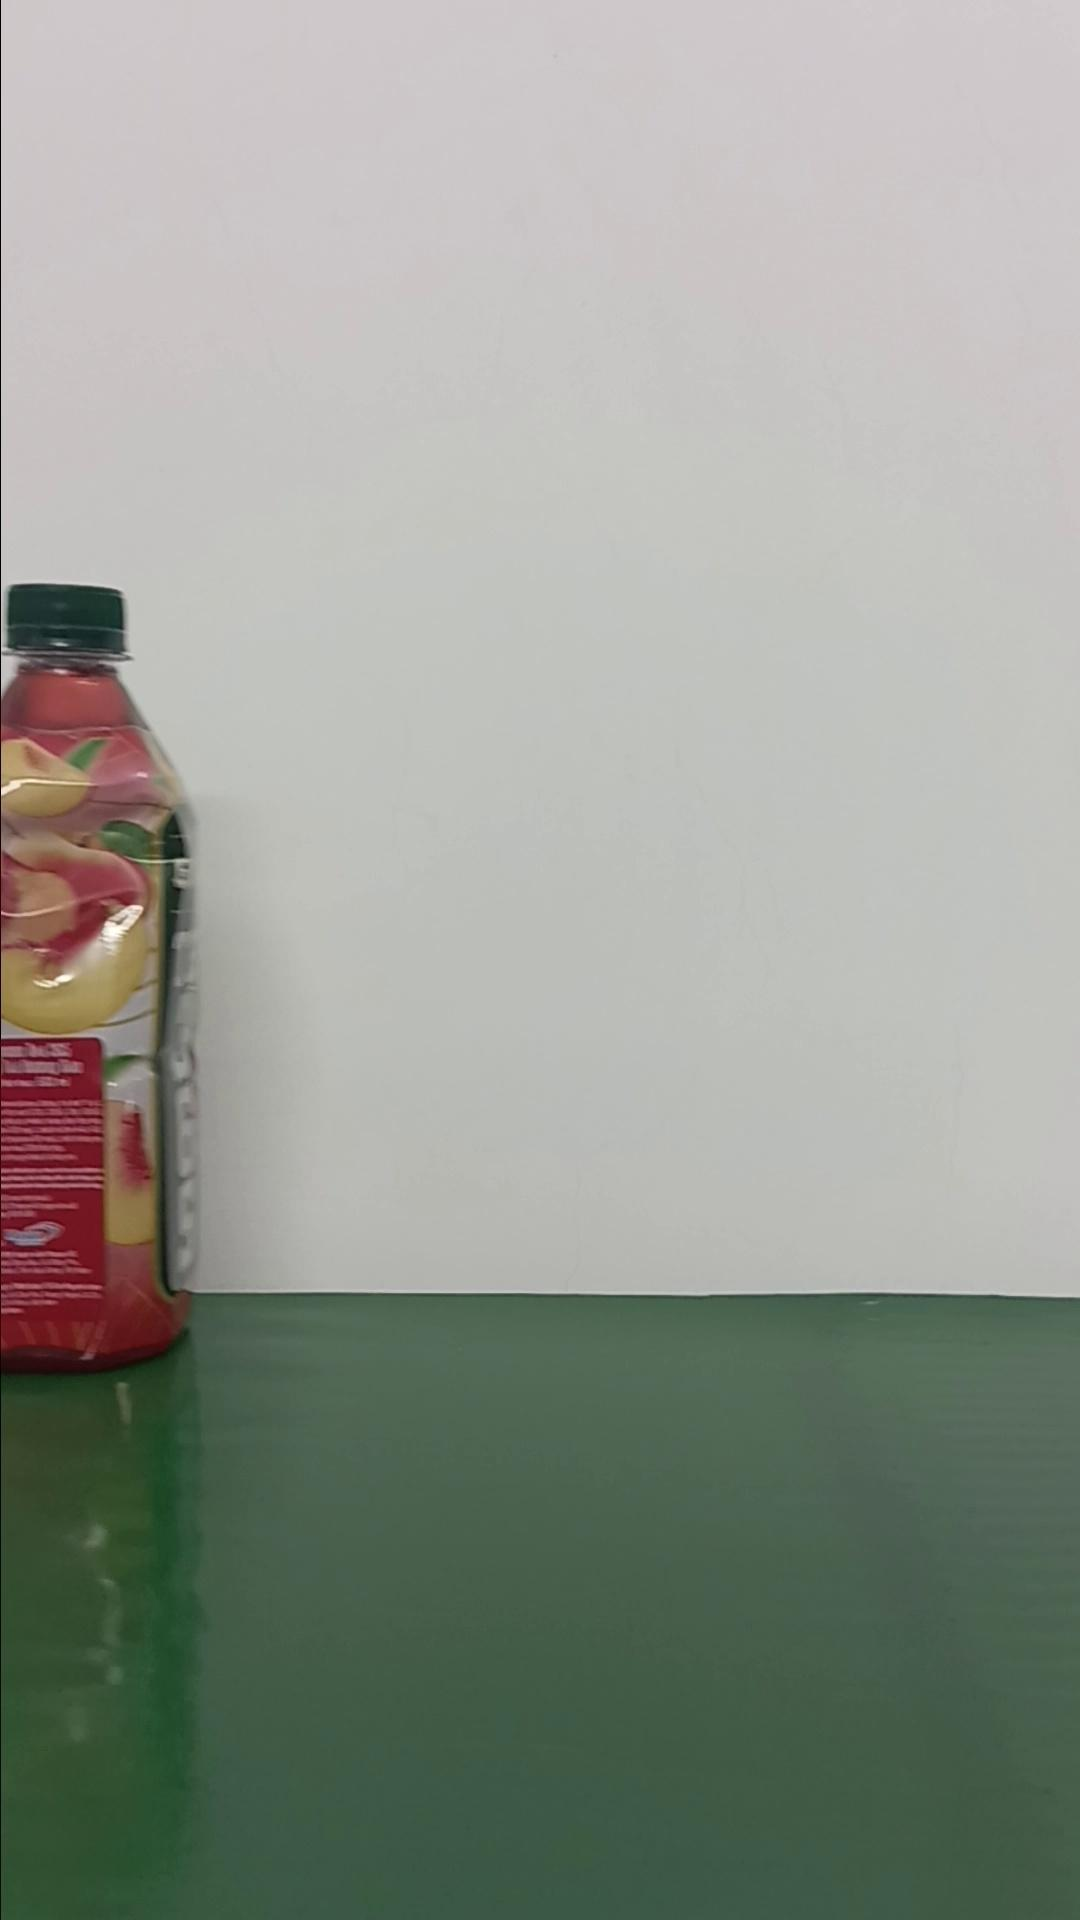loi meo sp: (1, 579, 203, 1373)
